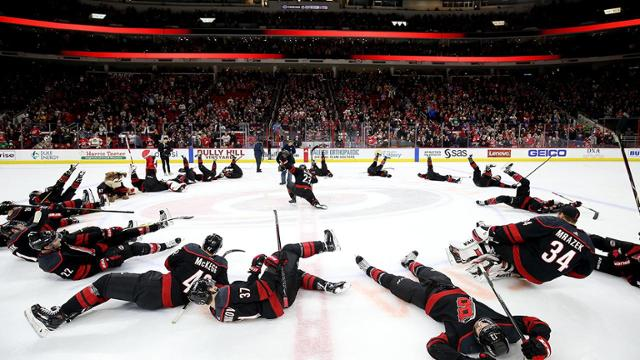geico: (527, 144, 568, 161)
